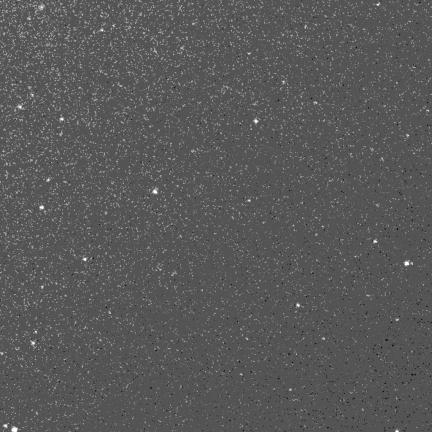blob: (38, 4, 46, 11), (153, 188, 159, 195), (11, 427, 19, 432), (404, 260, 409, 266), (3, 424, 9, 429), (39, 205, 44, 210), (254, 118, 258, 124), (373, 240, 378, 244), (31, 341, 35, 346), (60, 117, 64, 121), (18, 105, 22, 109), (46, 178, 50, 182), (322, 337, 326, 341), (296, 303, 300, 307), (83, 258, 87, 261)
